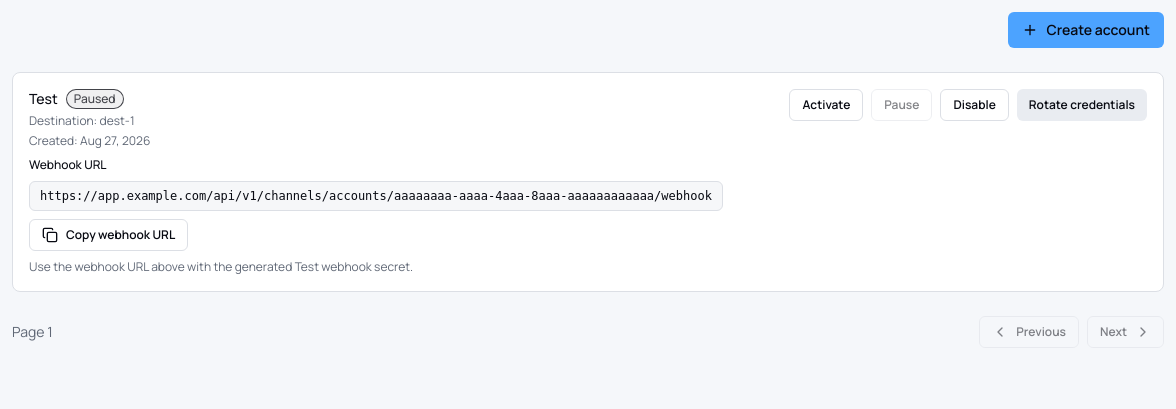
Test: ChannelAccountsClient › surfaces status error 401 without retrying
Click the button "Activate" at (826, 105), box left=790, top=89, right=863, bottom=121
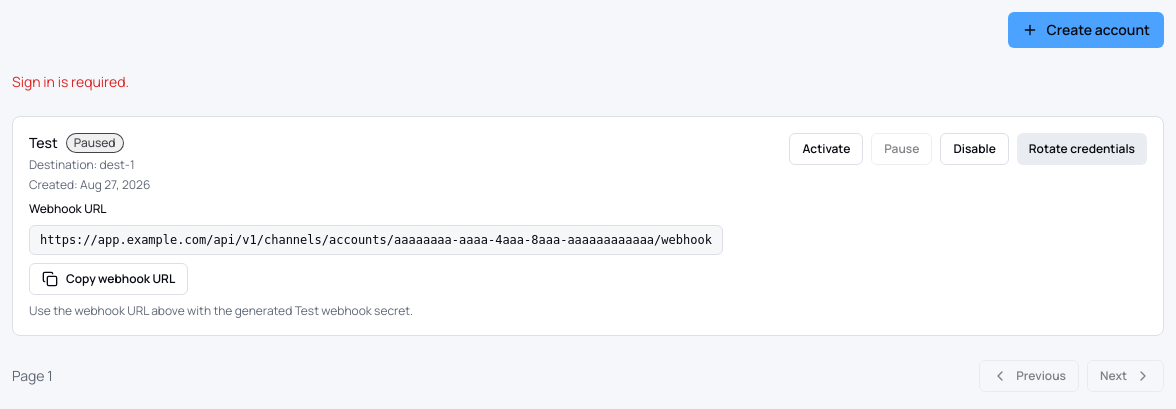
Expected: the text "Sign in is required." is shown, left=12, top=72, right=129, bottom=91
